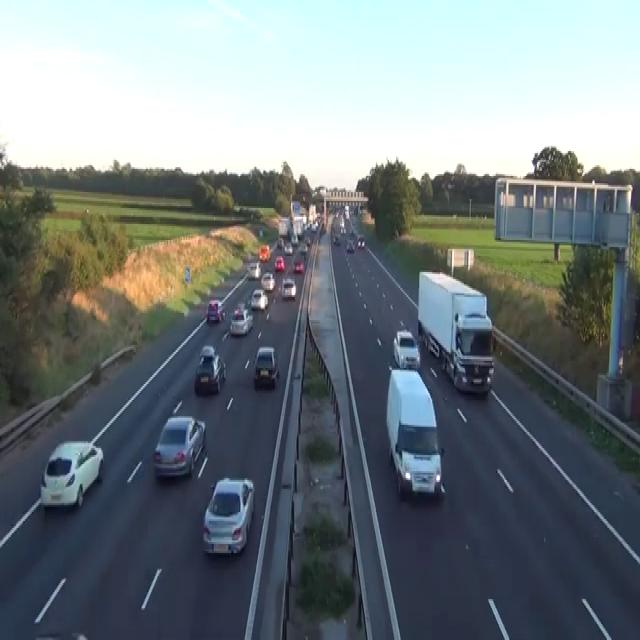Car: (40, 439, 103, 510), (202, 476, 254, 556), (152, 414, 206, 478), (194, 345, 226, 395), (393, 329, 420, 370), (253, 345, 279, 387), (229, 308, 253, 336), (206, 298, 225, 322), (32, 631, 89, 638), (250, 288, 268, 309), (281, 277, 296, 299), (260, 270, 275, 290), (199, 345, 215, 363), (246, 261, 261, 279), (259, 244, 270, 262), (292, 256, 304, 272), (274, 254, 285, 270), (356, 233, 365, 247), (236, 299, 246, 311), (346, 238, 354, 252), (298, 244, 307, 256), (284, 242, 292, 254), (290, 233, 298, 245), (319, 222, 326, 235), (332, 234, 340, 243), (277, 235, 283, 247), (349, 226, 356, 236), (340, 224, 345, 235), (305, 237, 311, 246), (311, 222, 316, 231)
Truck: (417, 268, 495, 394), (385, 366, 443, 500)
